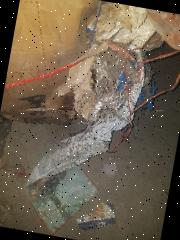general: (75, 197, 120, 235)
